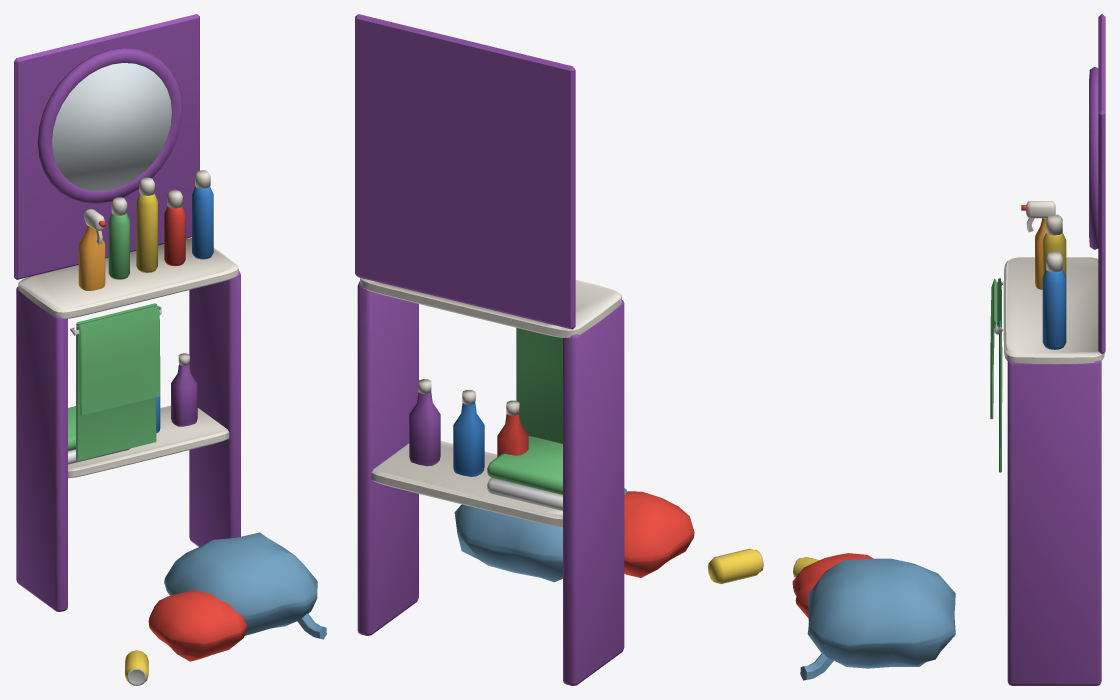
File: spritzStation.glb
3 renders of one model, left to right at view 1: azimuth 30°, elevation 25°; view 2: azimuth 150°, elevation 25°; view 3: azimuth 270°, elevation 25°, orthographic. The views are drawn at different scales.
Parts seen in each view (by area): view 1: body, spray; view 2: body; view 3: body, spray.
Boxes of the visible parts, <box> form: body: <box>14,14,326,685</box>; spray: <box>78,209,105,290</box>; body: <box>355,14,763,685</box>; body: <box>792,14,1105,685</box>; spray: <box>1021,201,1055,289</box>.
Bounding box in the file's own units: 0.6839 × 1.62 × 0.7984.
